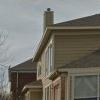Chimney: (39, 2, 52, 30)
